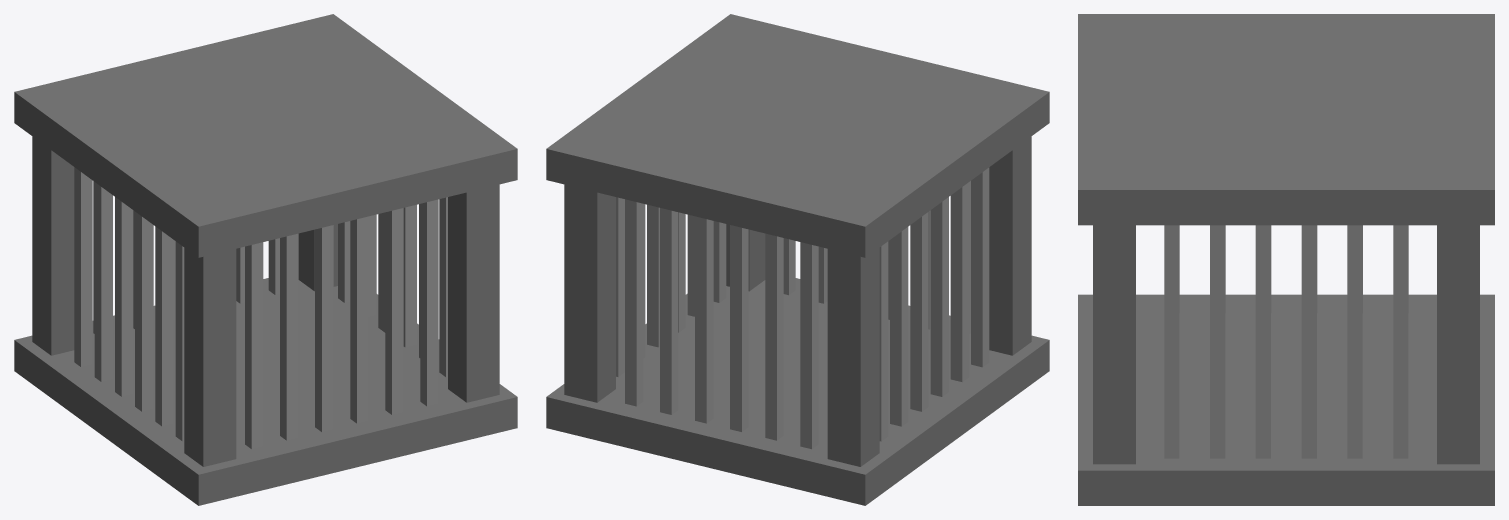
File: LPCP_Cage23.fbx
The picture shows the model from 3 angles, left to right: view 1: azimuth 30°, elevation 25°; view 2: azimuth 150°, elevation 25°; view 3: azimuth 270°, elevation 25°; orthographic projection. The views are drawn at different scales.
Visible parts, largest first — view 1: LPCP_Cage23; view 2: LPCP_Cage23; view 3: LPCP_Cage23.
Part boxes in pixels (left/top/right/bottom): LPCP_Cage23: left=14, top=14, right=517, bottom=505; LPCP_Cage23: left=546, top=14, right=1049, bottom=505; LPCP_Cage23: left=1078, top=14, right=1494, bottom=505.
Size of the model in its own units: 2.77 by 2.31 by 2.77.
